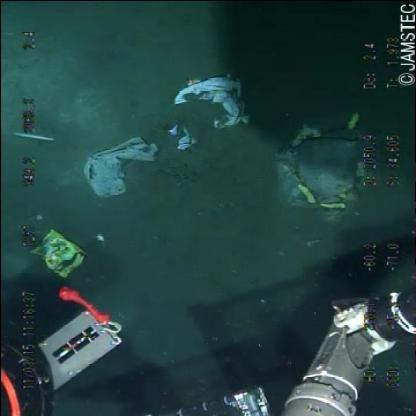Rov: (274, 283, 415, 415), (1, 281, 131, 415)
Rác: (165, 68, 257, 152), (78, 132, 160, 199), (26, 226, 96, 279)
